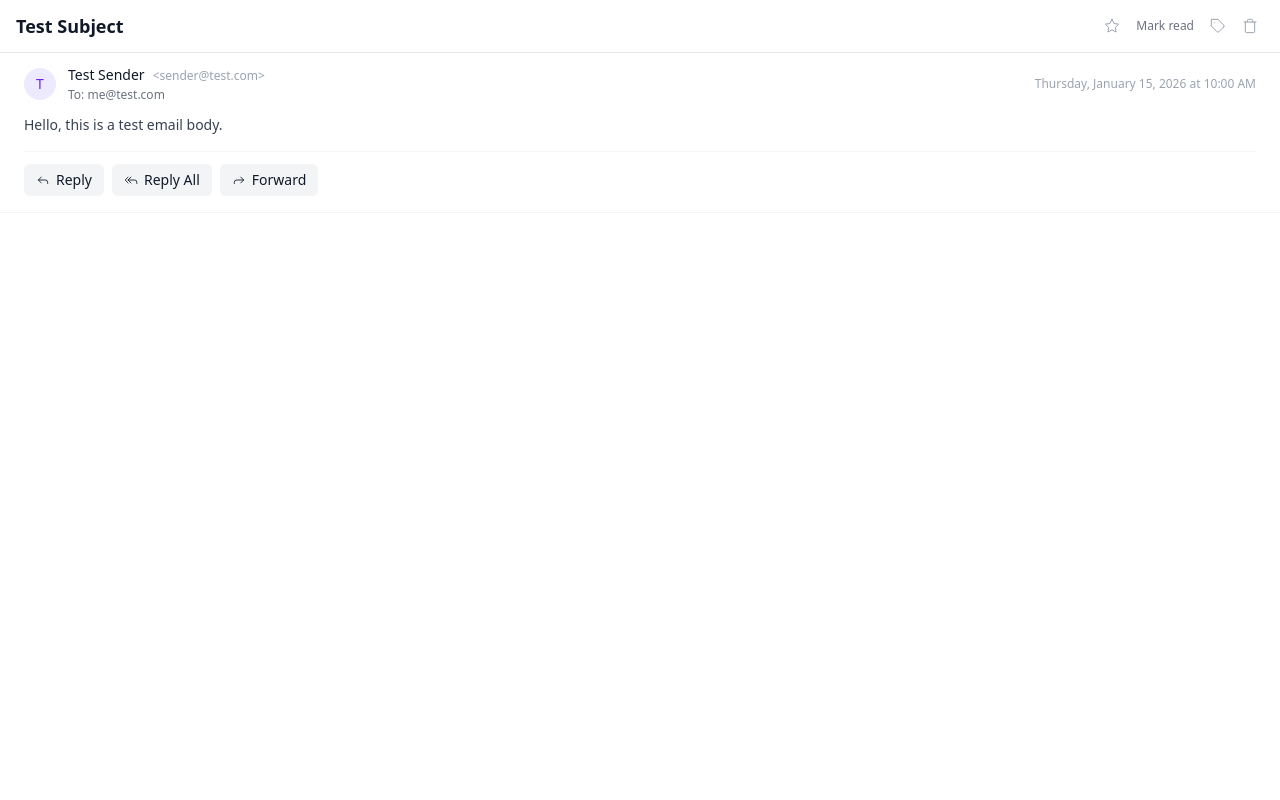
Test: MessageDetail › cancels delete confirmation
Click the button titled "Delete message". click: click(1250, 26)
box: [1236,12,1264,40]
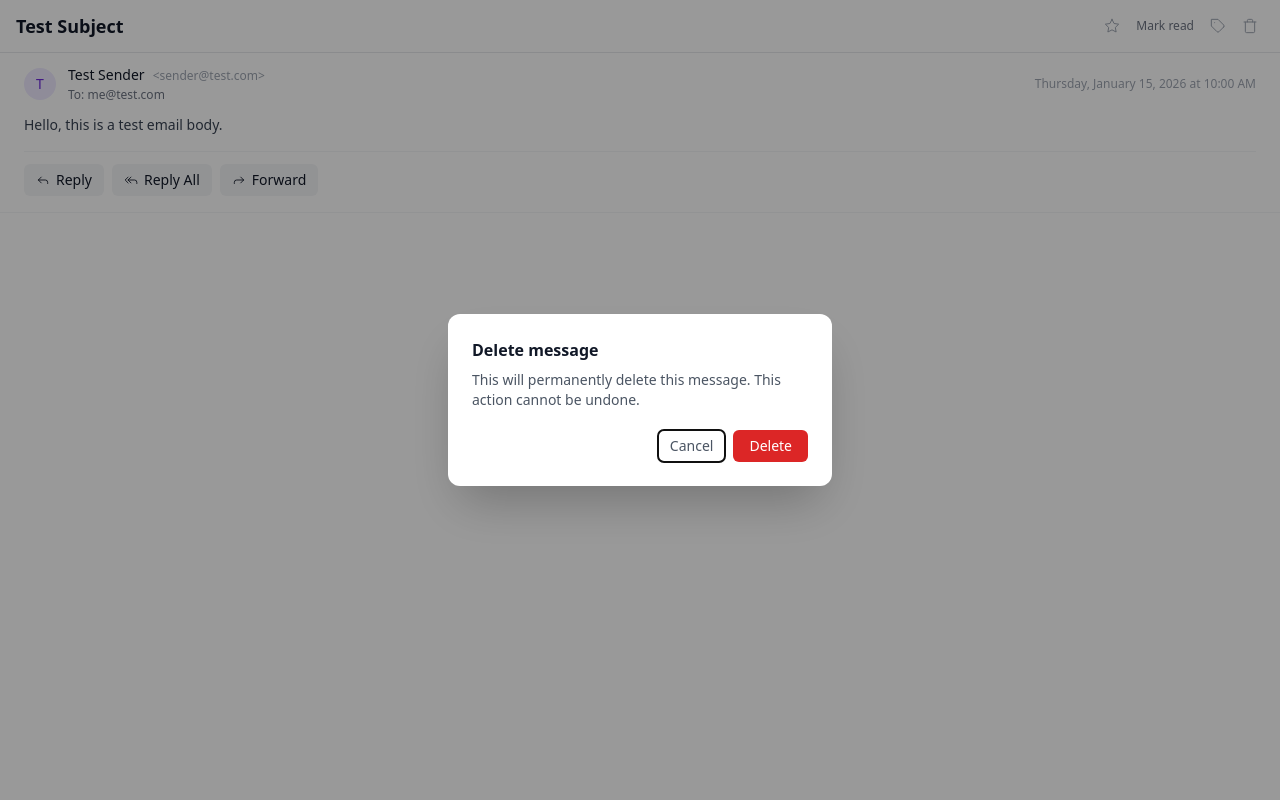
Click the button "Cancel". click: click(692, 446)
box: [658,430,725,462]
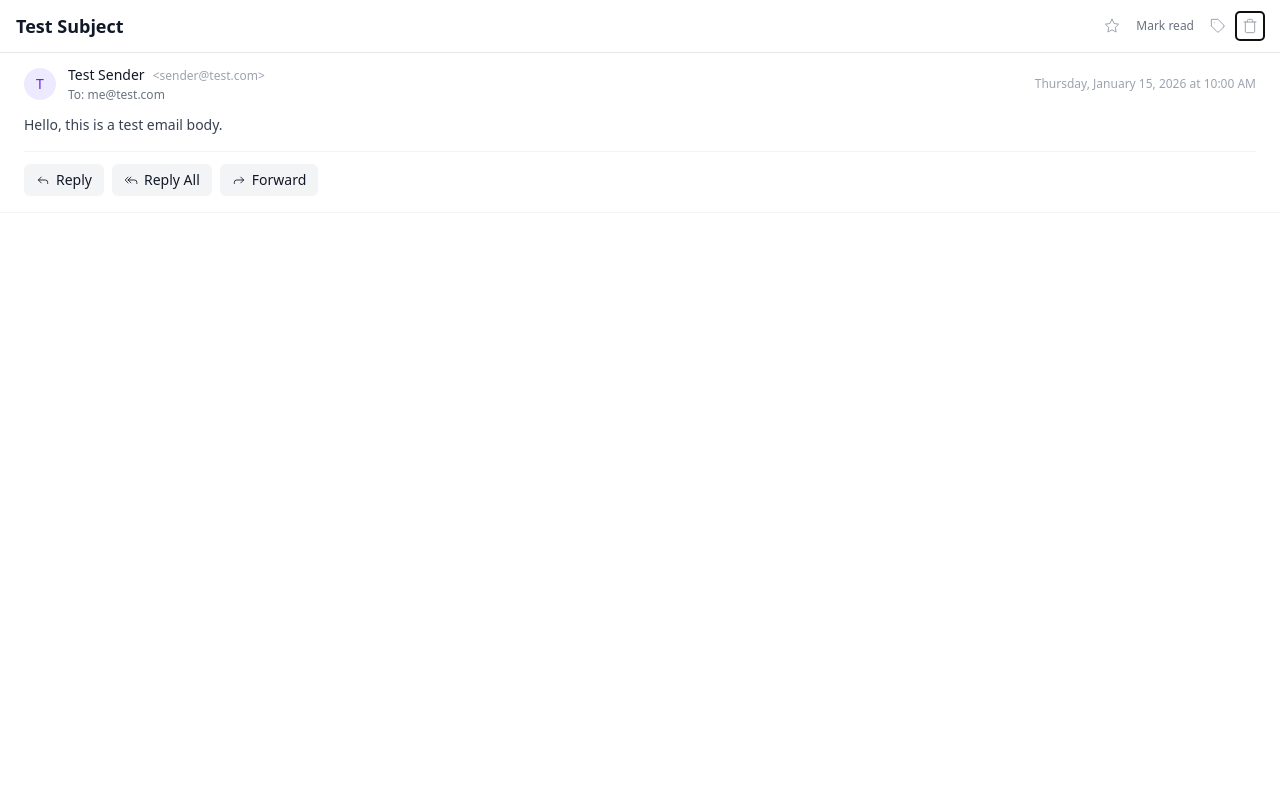
Expected: the text "This will permanently delete this message." is gone
